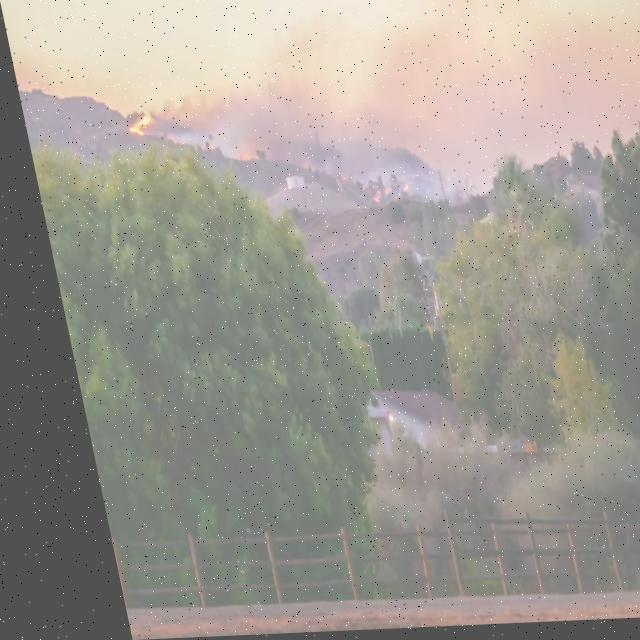Fire: (118, 110, 148, 140), (360, 190, 375, 207), (392, 188, 401, 200), (374, 189, 384, 198)
